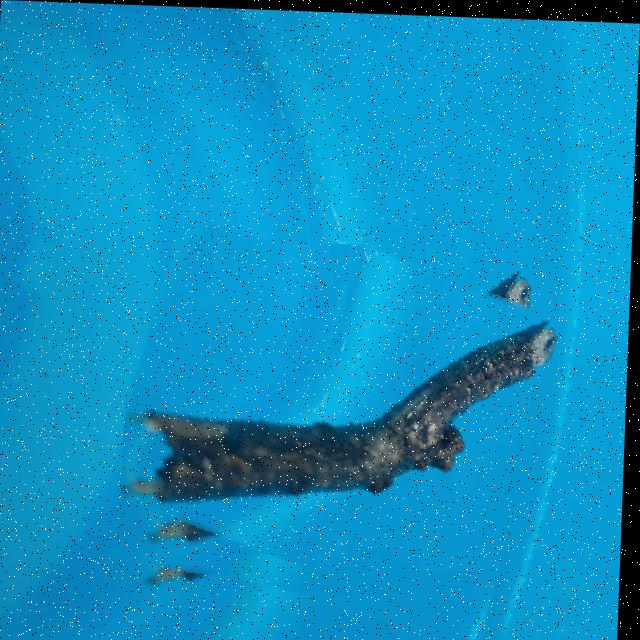wood: (120, 235, 554, 620)
